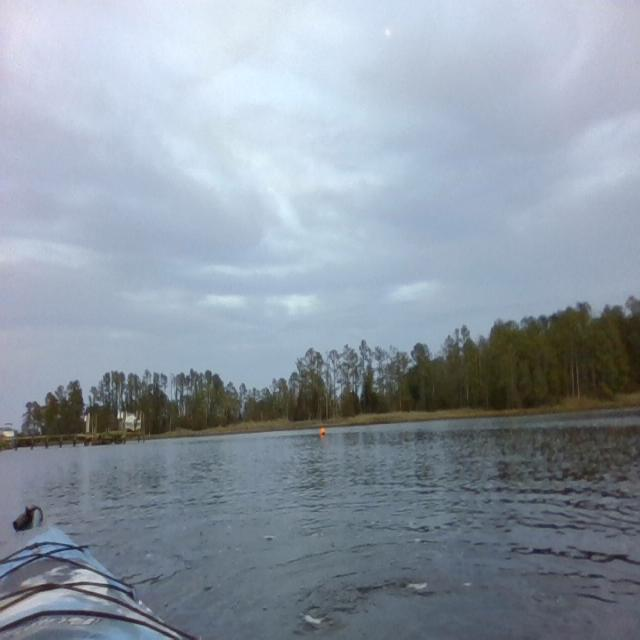Buoy: (319, 424, 326, 440)
